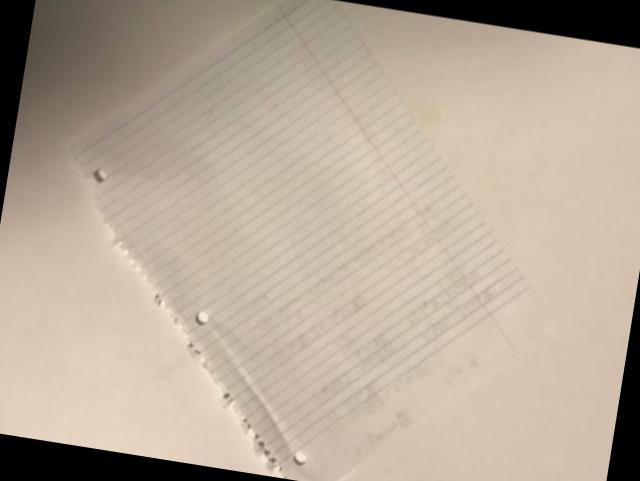cardboard paper: (74, 0, 529, 481)
